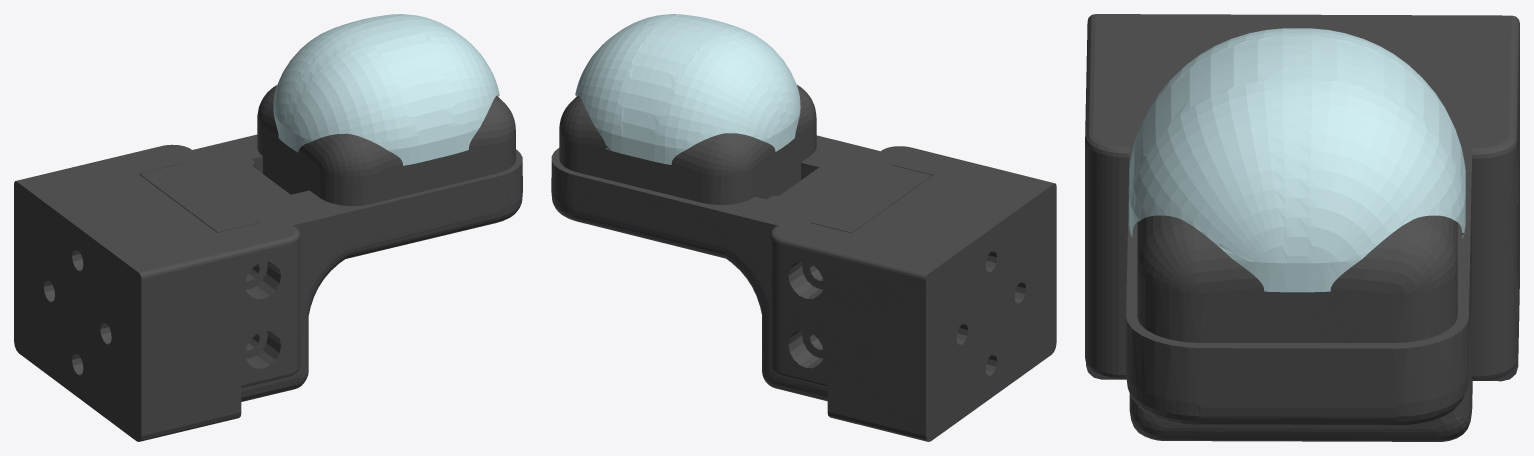
File: DotTip-thumb.dae
The picture shows the model from 3 angles, left to right: view 1: azimuth 30°, elevation 25°; view 2: azimuth 150°, elevation 25°; view 3: azimuth 270°, elevation 25°; orthographic projection. The views are drawn at different scales.
Visible parts, largest first — view 1: node; view 2: node; view 3: node.
Part boxes in pixels (left/top/right/bottom): node: left=14, top=14, right=522, bottom=441; node: left=551, top=14, right=1056, bottom=441; node: left=1085, top=14, right=1519, bottom=441.
Size of the model in its own units: 0.0495 by 0.0346 by 0.0272.
Materials: 1 (1 with a texture image).
